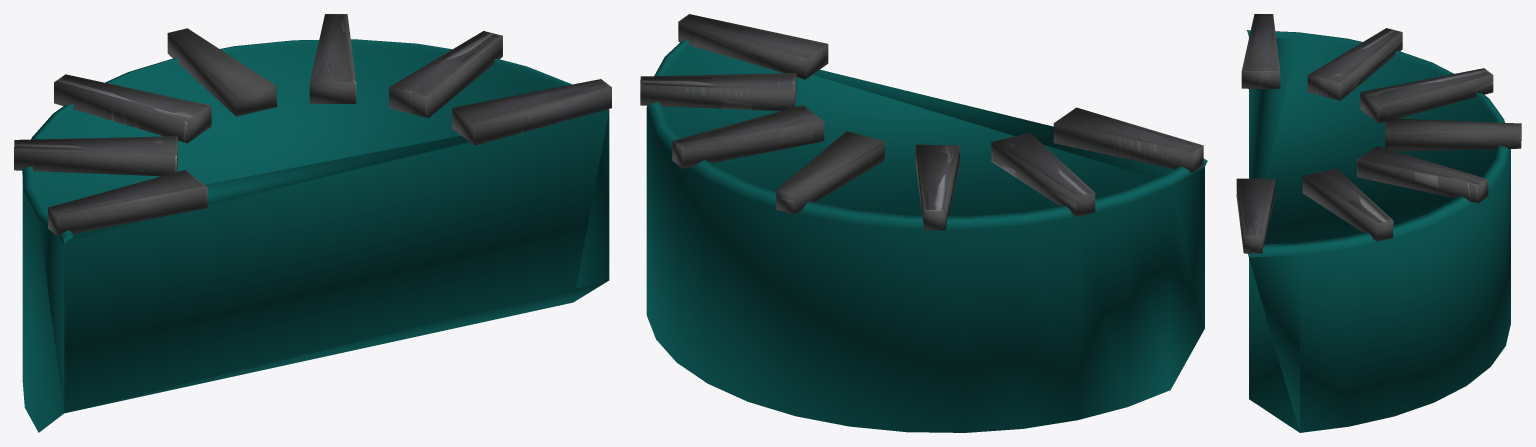
The model's file is The Machine Floor Dial.glb.
3 renders of one model, left to right at view 1: azimuth 30°, elevation 25°; view 2: azimuth 150°, elevation 25°; view 3: azimuth 270°, elevation 25°, orthographic. The views are drawn at different scales.
Parts seen in each view (by area): view 1: Mesh_0.001; view 2: Mesh_0.001; view 3: Mesh_0.001.
Part boxes in pixels (bbox=[...]): Mesh_0.001: bbox=[14, 14, 611, 432]; Mesh_0.001: bbox=[640, 14, 1207, 432]; Mesh_0.001: bbox=[1236, 14, 1521, 432].
Size of the model in its own units: 0.7426 by 0.3098 by 0.4023.
2 materials, 1 textured.
